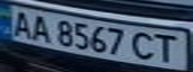5: (69, 20, 90, 52)
6: (87, 24, 109, 54)
7: (106, 26, 130, 56)
8: (51, 17, 75, 47)
A: (6, 9, 36, 38), (27, 14, 54, 44)
C: (127, 29, 160, 62)
T: (151, 31, 184, 64)
